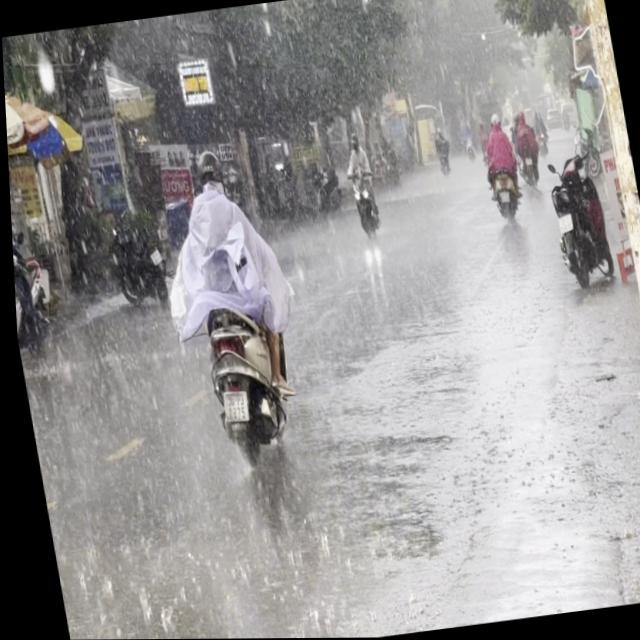helmet: (190, 147, 222, 194)
licenseplate: (139, 137, 319, 493), (7, 179, 55, 360)
nohelmet: (217, 389, 245, 422)
